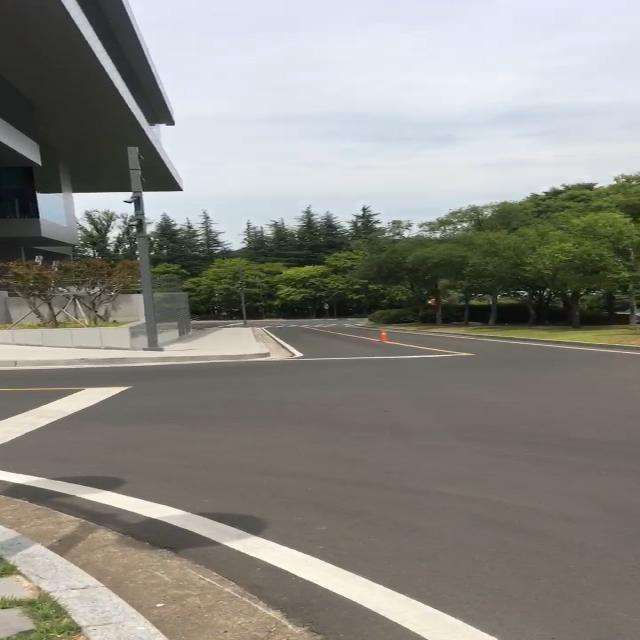obstacle: (124, 147, 157, 349), (376, 328, 391, 344)
road: (0, 318, 640, 640)
sidewalk: (0, 525, 169, 640), (0, 328, 269, 366)
